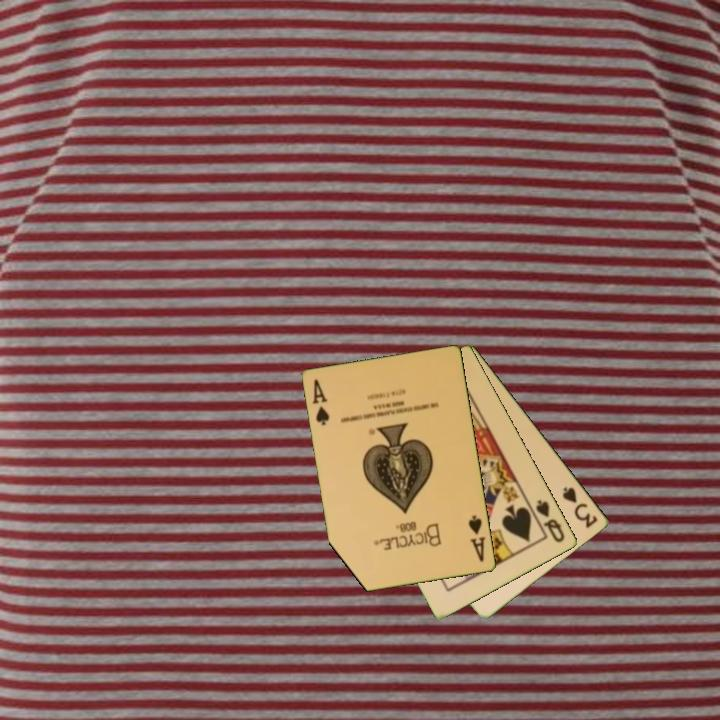3s: (559, 483, 601, 531)
As: (465, 512, 489, 565), (309, 376, 333, 429)
Qs: (533, 496, 568, 546)
